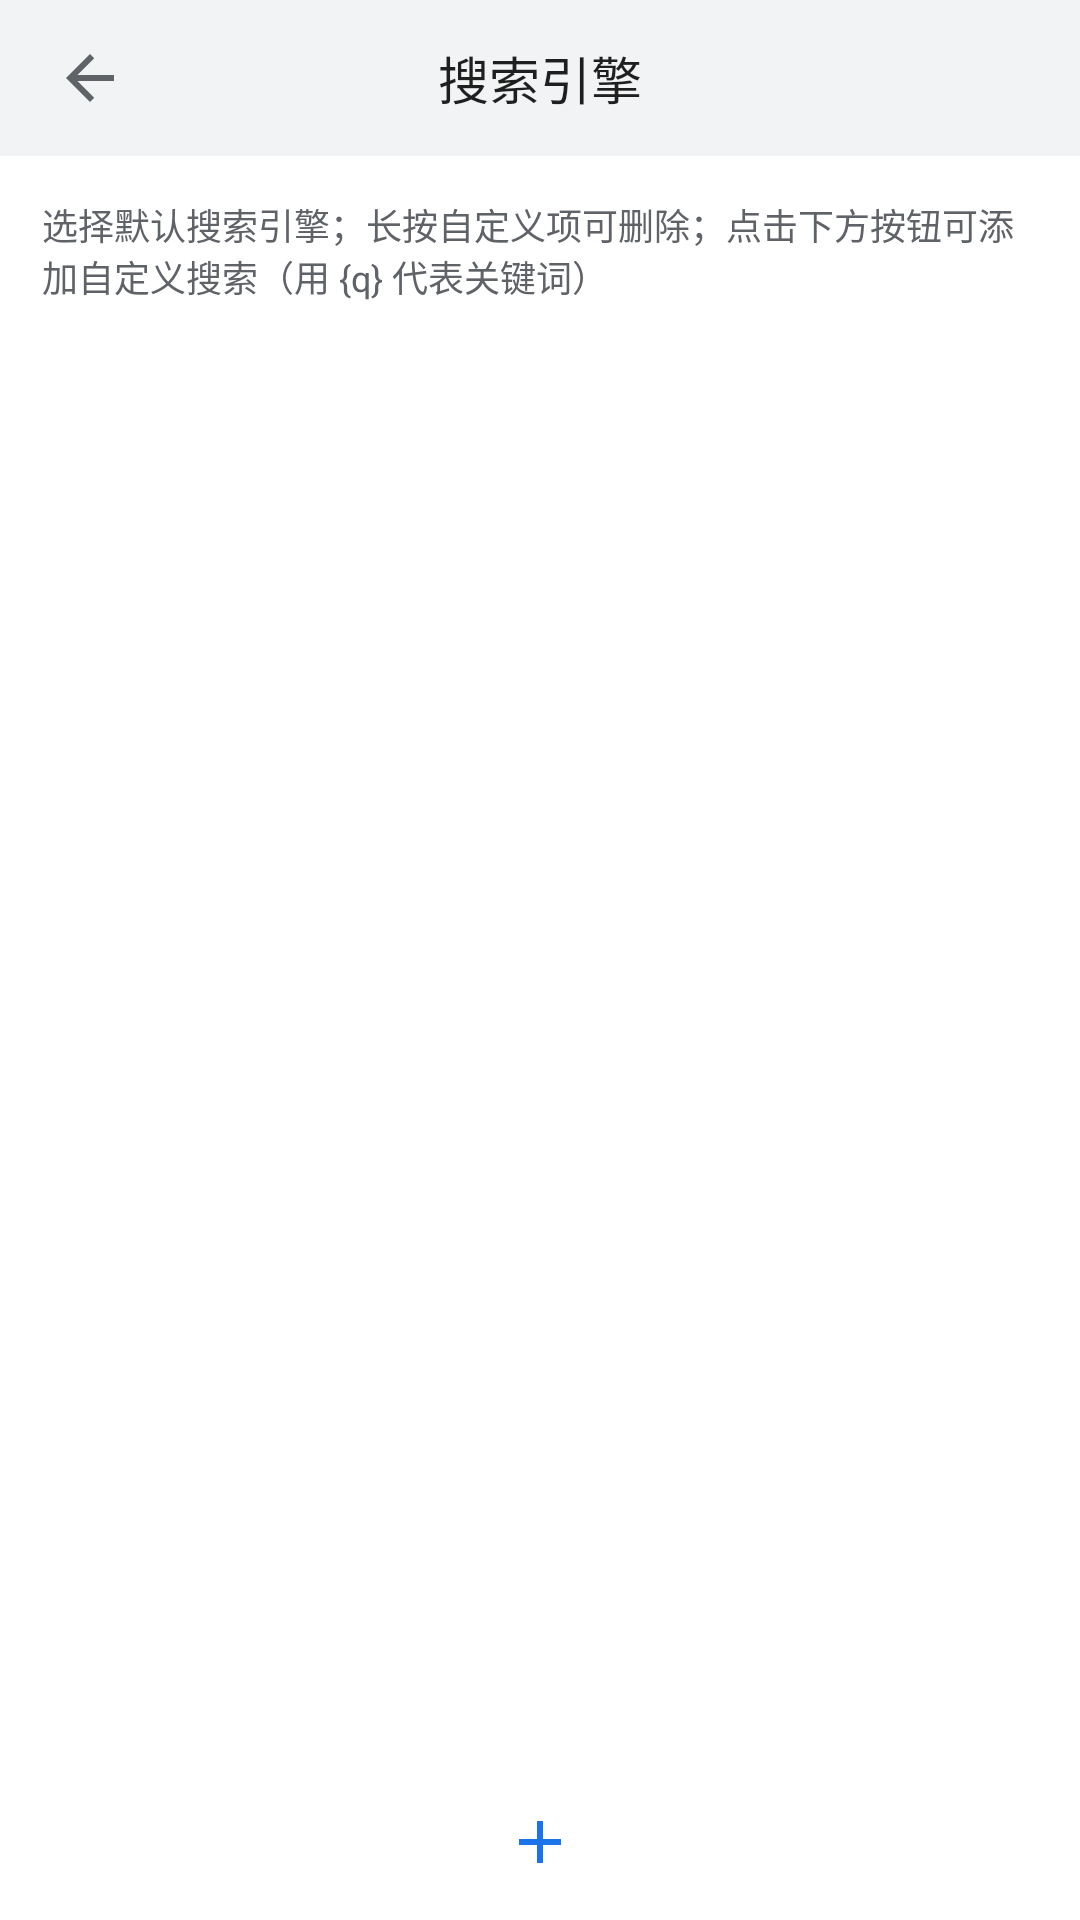

Icon click points for this 1080px x 1920px phone screenshot, format (x,y):
返回: (90,78)
